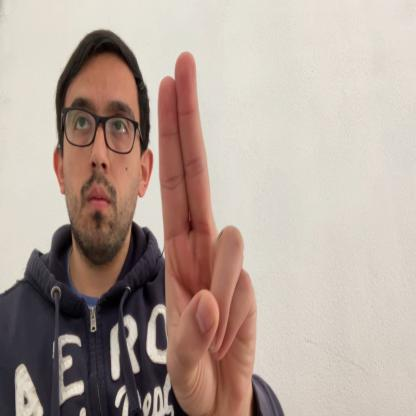U: (157, 50, 255, 416)
